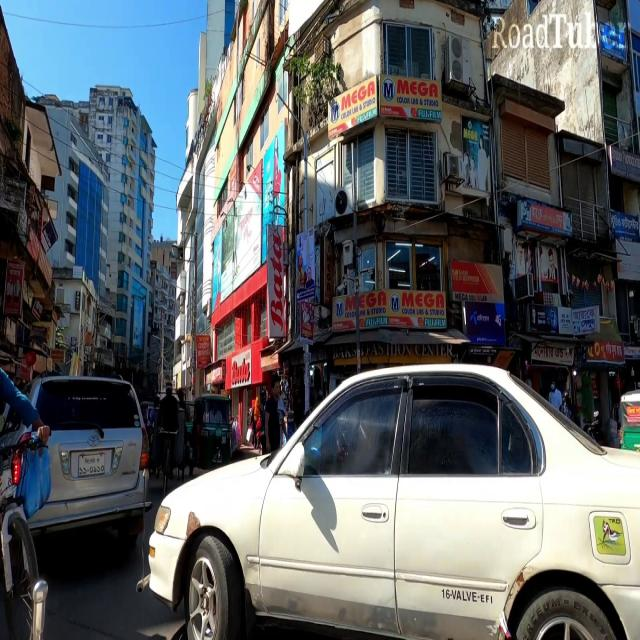silver: (12, 366, 152, 544)
white: (154, 357, 640, 640)
